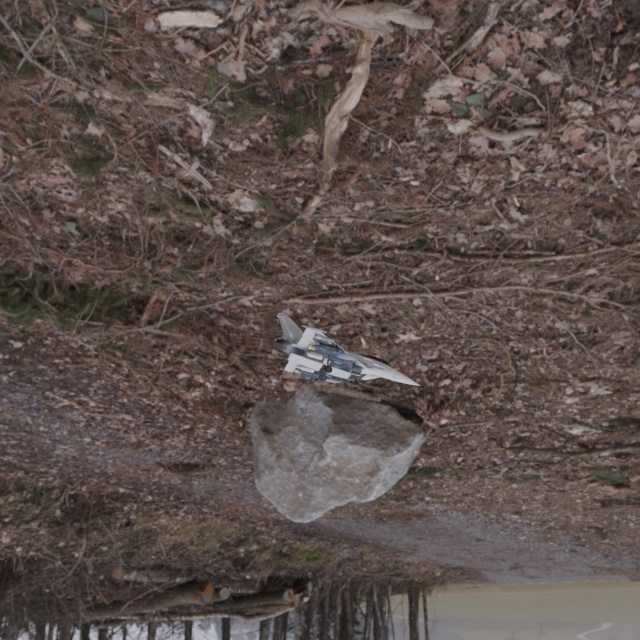eurofighter_typhoon_3d: (256, 286, 444, 420)
